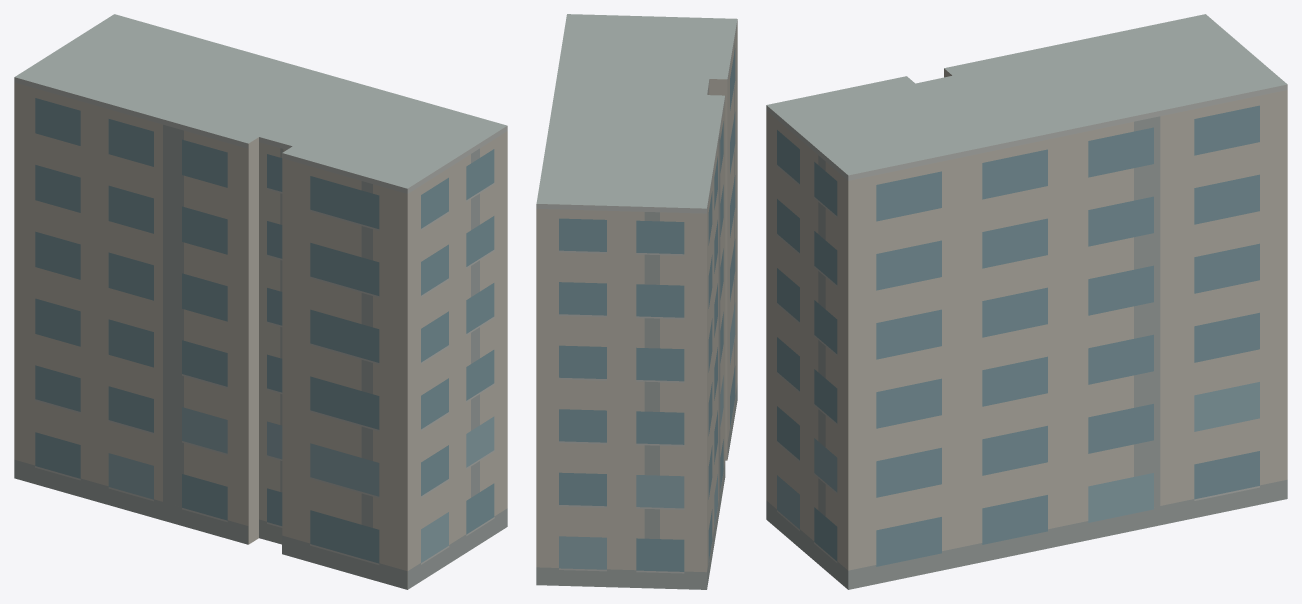
The model's file is survey-upis-32964242.glb.
3 views of the same model, side by side, from view 1: azimuth 30°, elevation 25°; view 2: azimuth 150°, elevation 25°; view 3: azimuth 270°, elevation 25° (orthographic). The views are drawn at different scales.
Parts seen in each view (by area): view 1: survey-upis-32964242.tmp; view 2: survey-upis-32964242.tmp; view 3: survey-upis-32964242.tmp.
Part boxes in pixels (bbox=[...]): survey-upis-32964242.tmp: bbox=[14, 14, 507, 589]; survey-upis-32964242.tmp: bbox=[536, 14, 737, 589]; survey-upis-32964242.tmp: bbox=[766, 14, 1287, 589].
Bounding box in the file's own units: 15.55 × 18.6 × 21.22.
